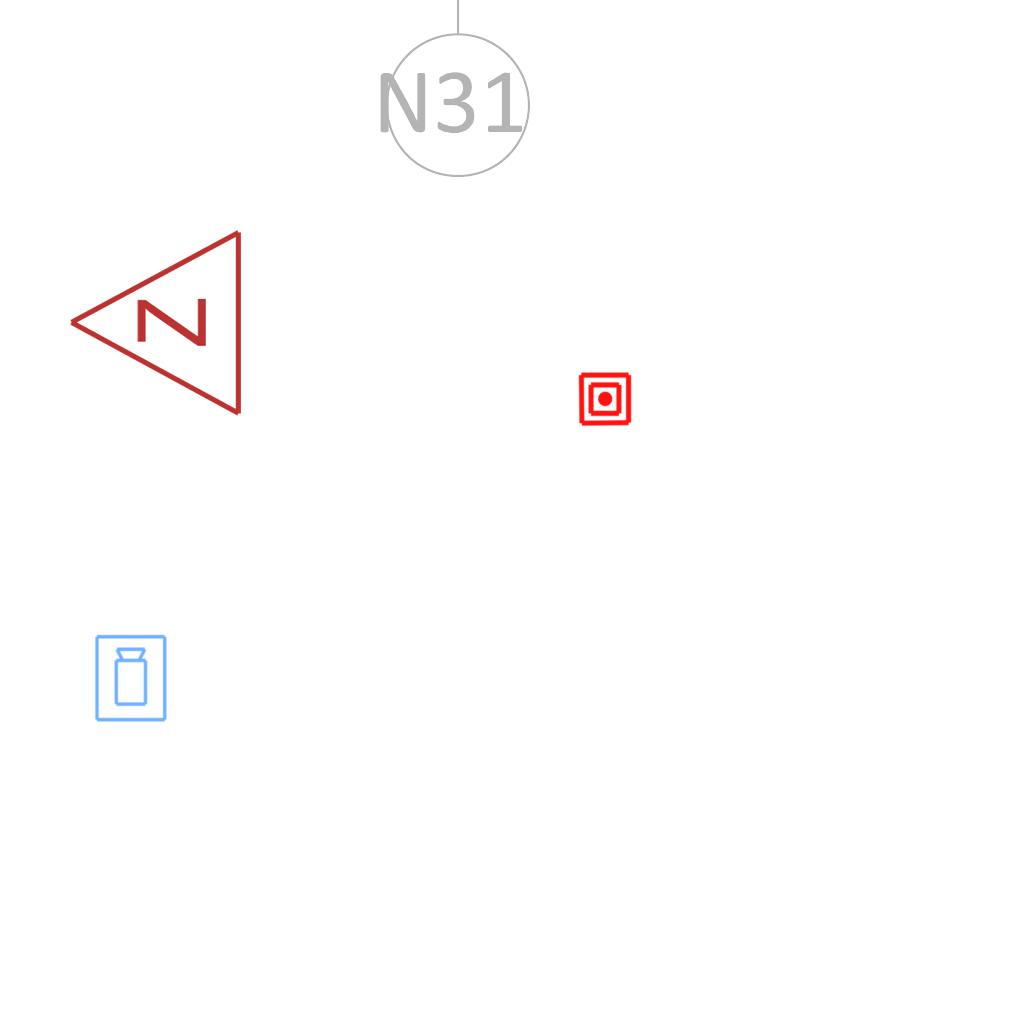KFO_Kamera_mit_Festobjektiv: (93, 633, 170, 724)
NAM-Nichtautomatischer_Melder: (577, 371, 633, 427)
Zimmersignalleuchte: (56, 227, 256, 423)
